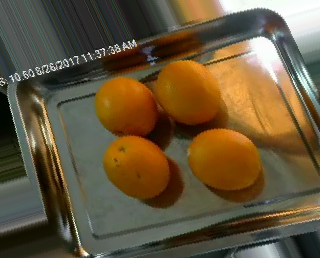Orange: (188, 127, 262, 189), (155, 59, 222, 124), (103, 136, 170, 198), (94, 76, 157, 137)
